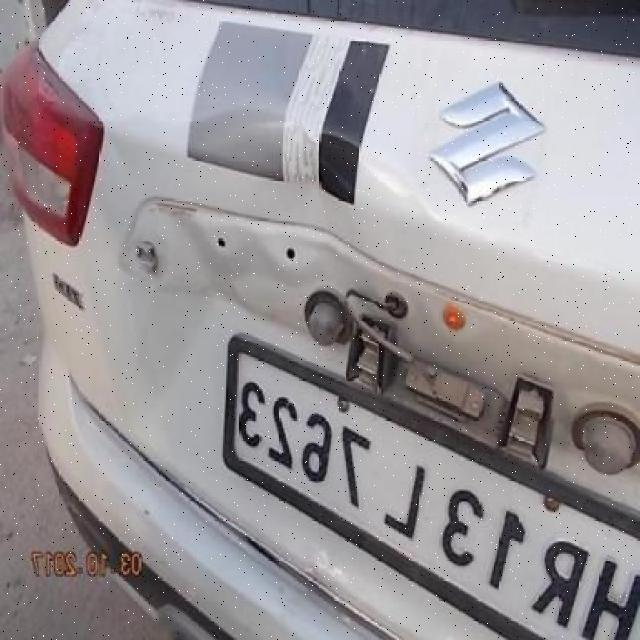damage: (151, 110, 433, 325)
